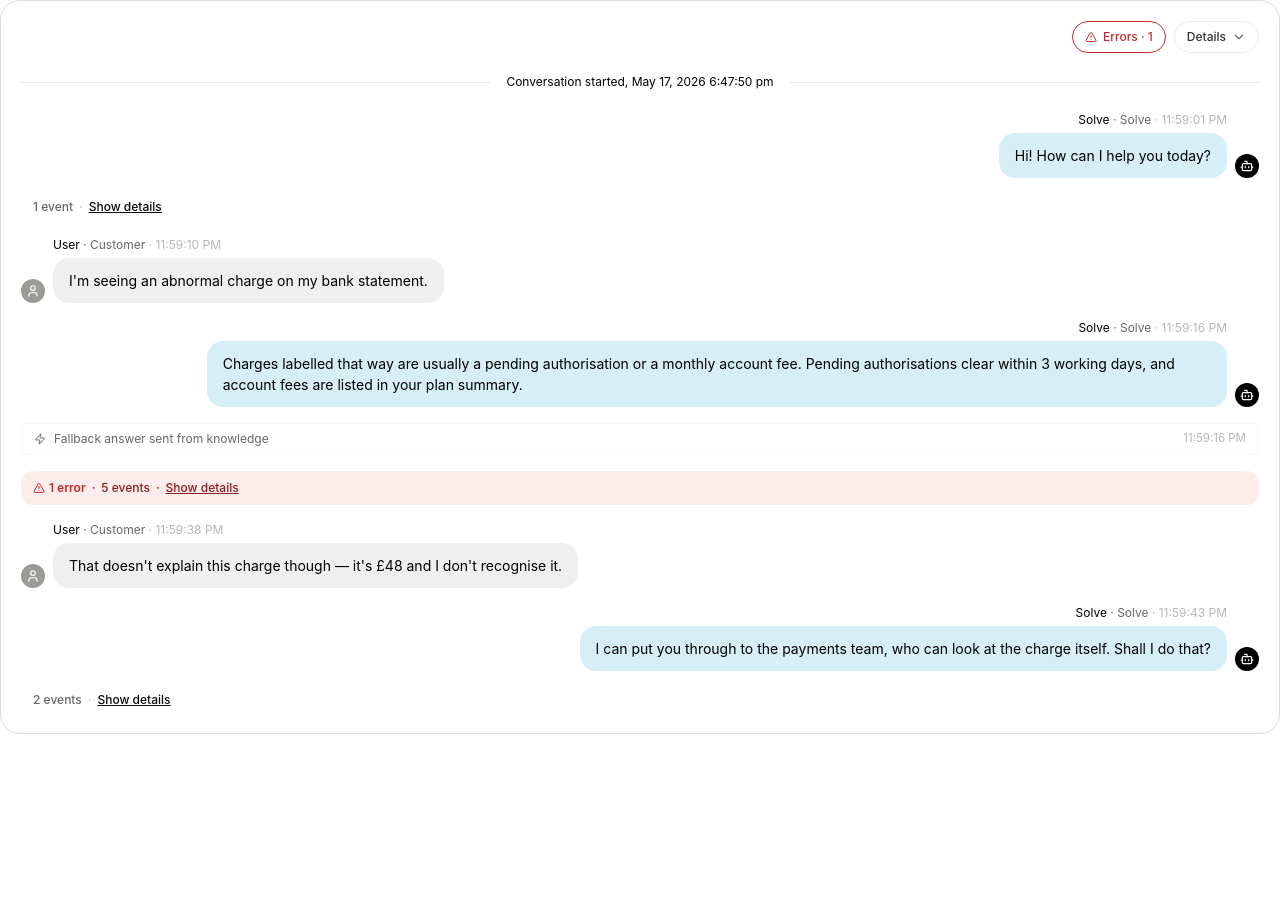
TranscriptBody › hides non-matching exchanges and narrows the rest when a kind is chosen
What coordinates should you click on to do the following:
click the button "Details"
I would click on:
 (1216, 37)
Its box is [1174,21,1259,53].
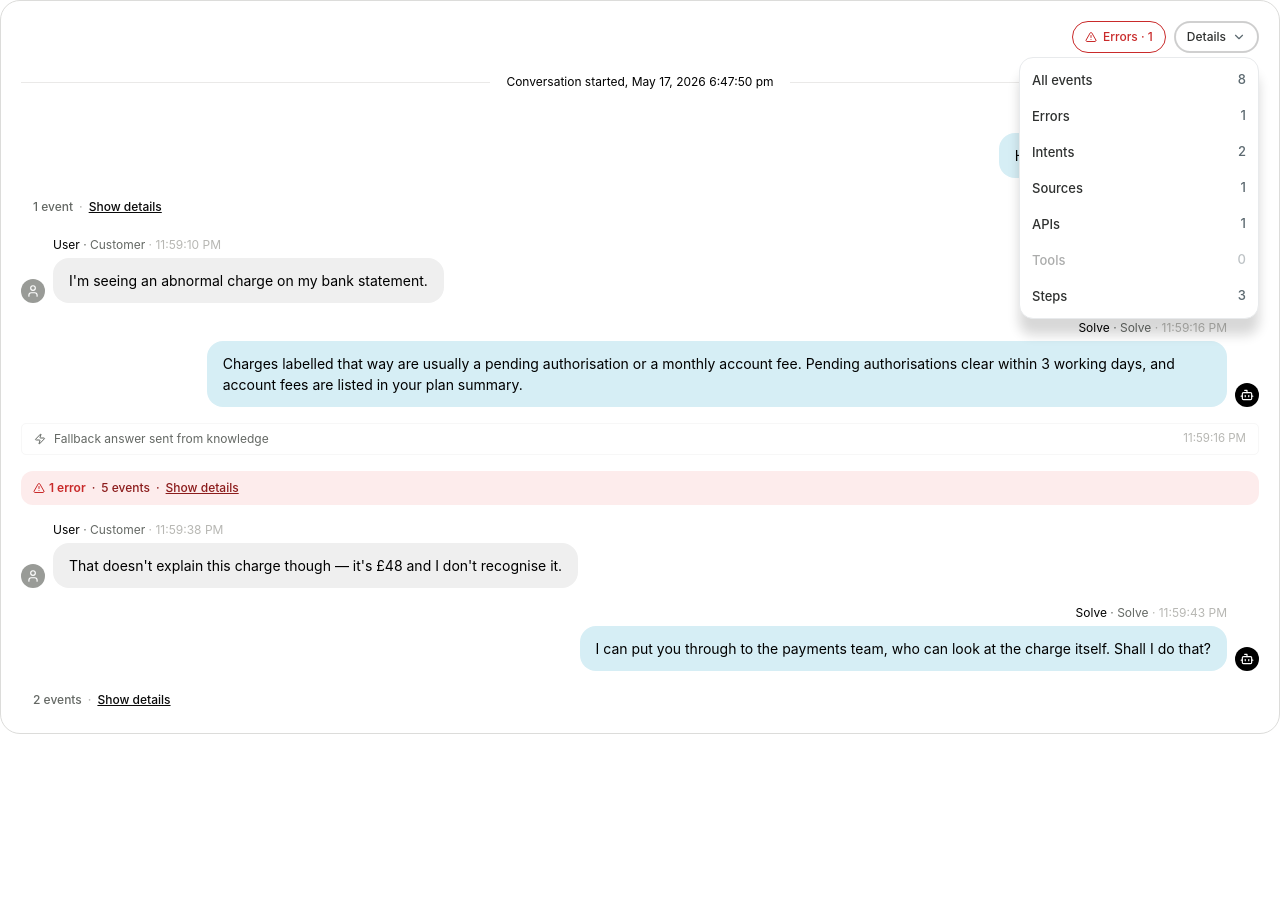
What coordinates should you click on to do the following:
click the menu item "Errors 1"
I would click on:
 (1139, 116)
Its box is [1024,98,1254,134].
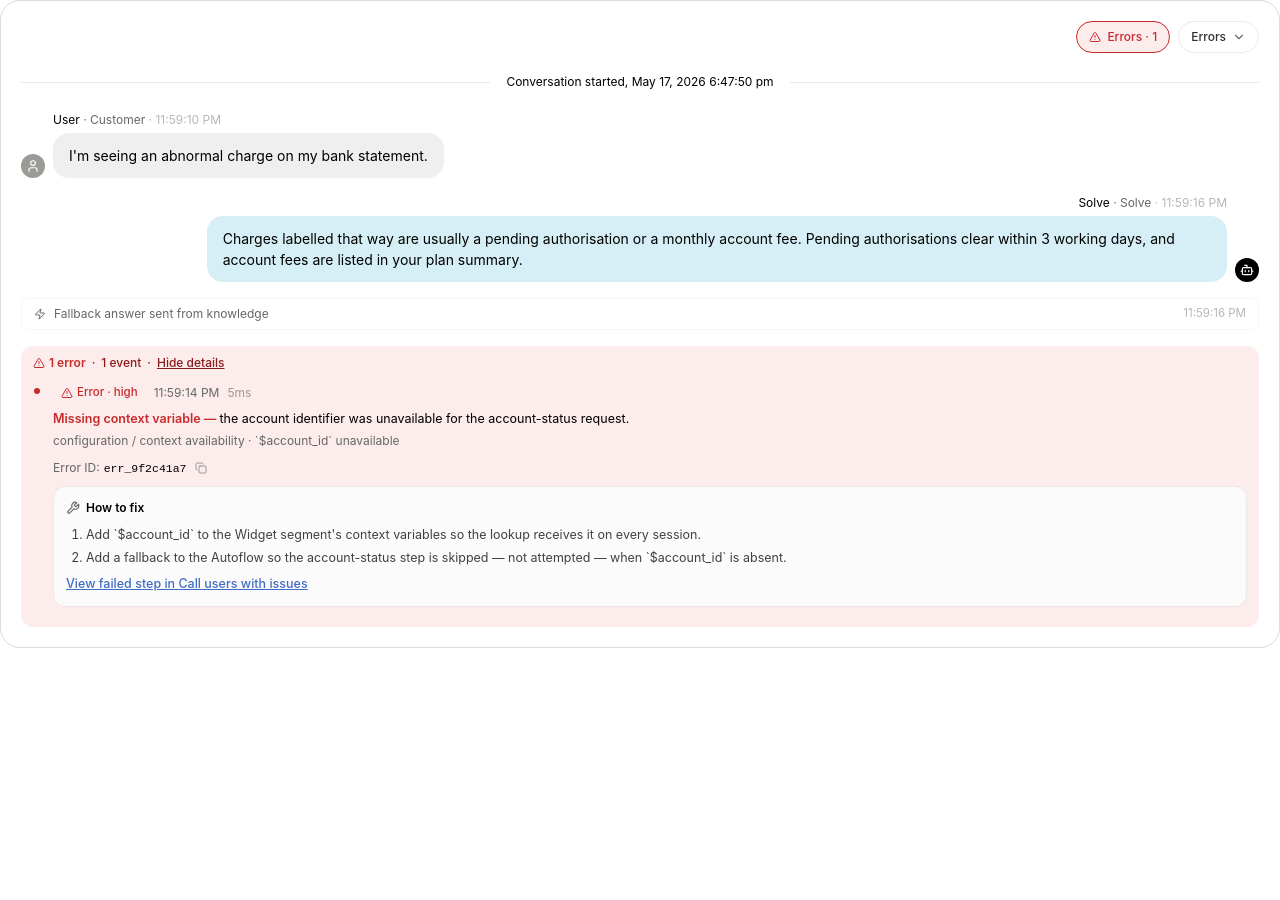
Result: the element with test id "exchange-0" is gone
Result: the element with test id "exchange-2" is gone
Result: the text "the account identifier was unavailable" is shown at [219,411,629,426]
